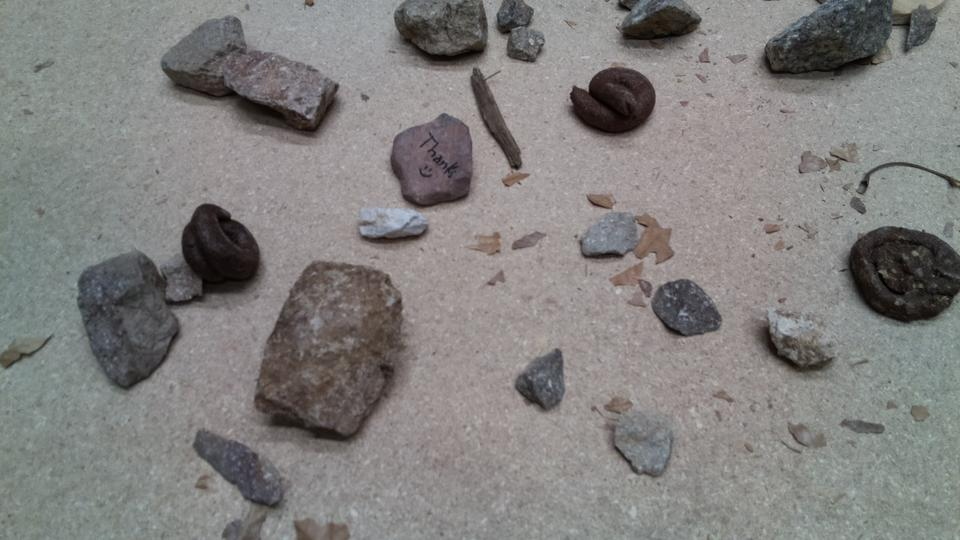poop: (847, 221, 960, 326), (176, 201, 261, 286), (568, 64, 659, 136)
